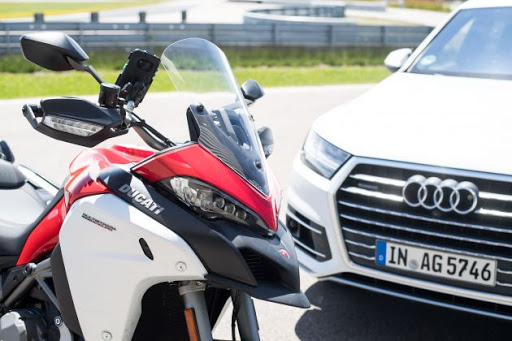motorcycle: (1, 28, 313, 341)
